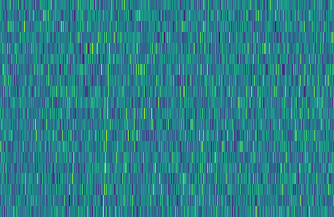signal: (97, 0, 115, 217)
